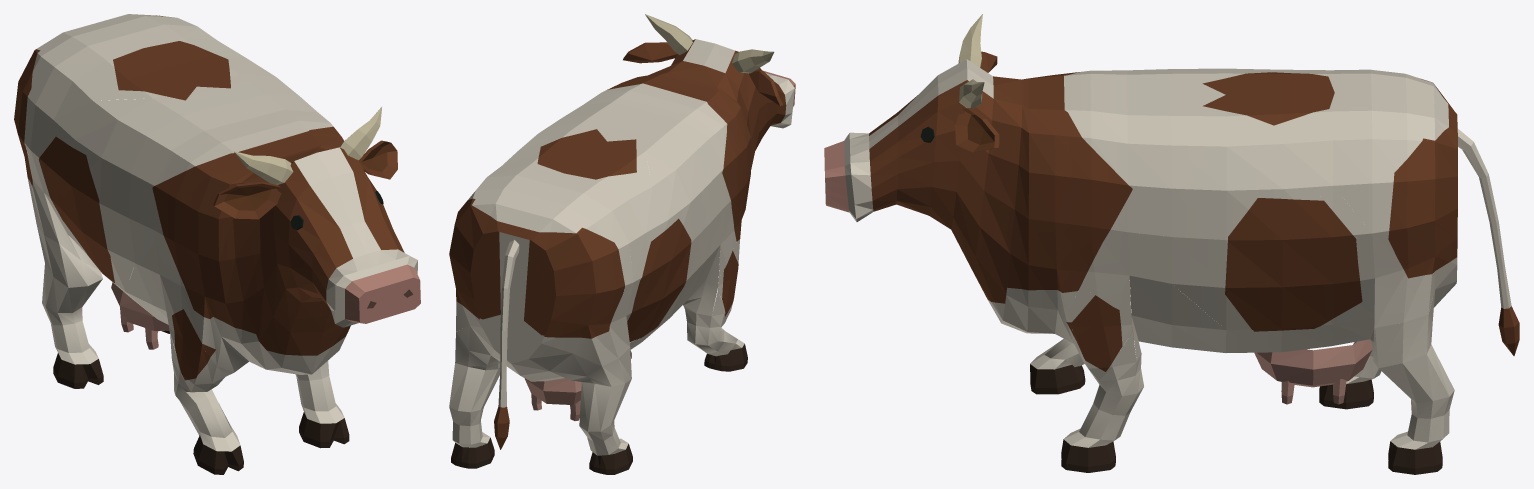
Rendered from cow-base__walk7.glb.
The picture shows the model from 3 angles, left to right: view 1: azimuth 30°, elevation 25°; view 2: azimuth 150°, elevation 25°; view 3: azimuth 270°, elevation 25°; orthographic projection. The views are drawn at different scales.
Parts seen in each view (by area): view 1: cow-base__walk7; view 2: cow-base__walk7; view 3: cow-base__walk7.
Part boxes in pixels (x1,y1,x2,y2): cow-base__walk7: [14, 14, 420, 474]; cow-base__walk7: [449, 14, 795, 474]; cow-base__walk7: [824, 14, 1519, 474].
Bounding box in the file's own units: 0.8416 × 1.45 × 2.38.
